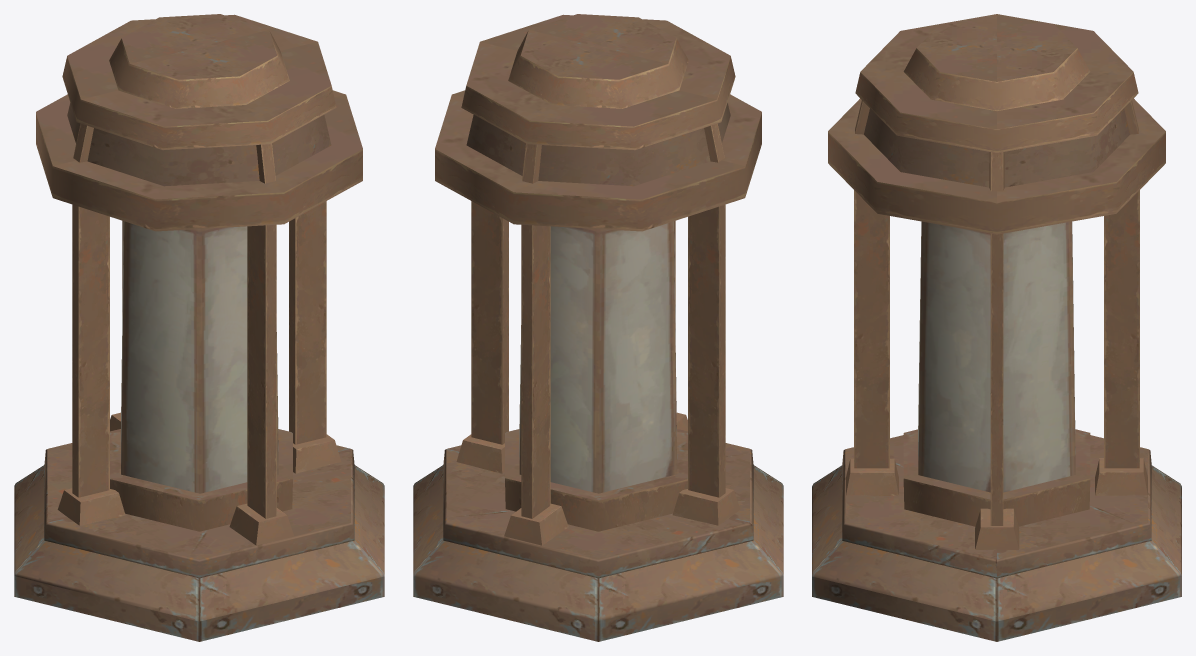
The model's file is Homeworld_Exterior_Fd_Lamp_Light_EverLit_01_Vo.fbx.
The picture shows the model from 3 angles, left to right: view 1: azimuth 30°, elevation 25°; view 2: azimuth 150°, elevation 25°; view 3: azimuth 270°, elevation 25°; orthographic projection.
Parts seen in each view (by area): view 1: Area_Fd_Light_SXGC_Deng_EverLit_01_Vo; view 2: Area_Fd_Light_SXGC_Deng_EverLit_01_Vo; view 3: Area_Fd_Light_SXGC_Deng_EverLit_01_Vo.
Boxes of the visible parts, x1=… form: Area_Fd_Light_SXGC_Deng_EverLit_01_Vo: x1=14, y1=14, x2=384, y2=641; Area_Fd_Light_SXGC_Deng_EverLit_01_Vo: x1=413, y1=14, x2=783, y2=641; Area_Fd_Light_SXGC_Deng_EverLit_01_Vo: x1=812, y1=14, x2=1181, y2=641.
Size of the model in its own units: 1.21 by 1.58 by 1.05.
2 materials, 2 textured.
